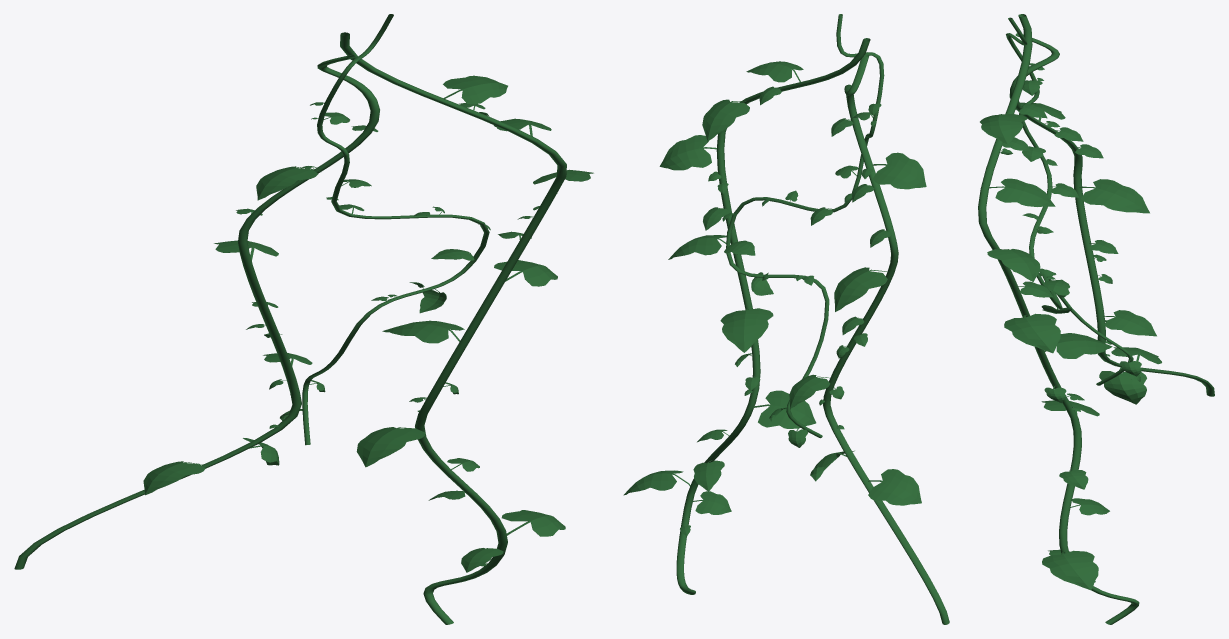
The model's file is plantequitombe.fbx.
The picture shows the model from 3 angles, left to right: view 1: azimuth 30°, elevation 25°; view 2: azimuth 150°, elevation 25°; view 3: azimuth 270°, elevation 25°; orthographic projection. The views are drawn at different scales.
Visible parts, largest first — view 1: plante qui tombe; view 2: plante qui tombe; view 3: plante qui tombe.
Boxes of the visible parts, left/top/right/bottom form: plante qui tombe: left=14, top=14, right=593, bottom=624; plante qui tombe: left=623, top=14, right=949, bottom=624; plante qui tombe: left=978, top=14, right=1214, bottom=624.
Size of the model in its own units: 22.39 by 12.05 by 31.32.
